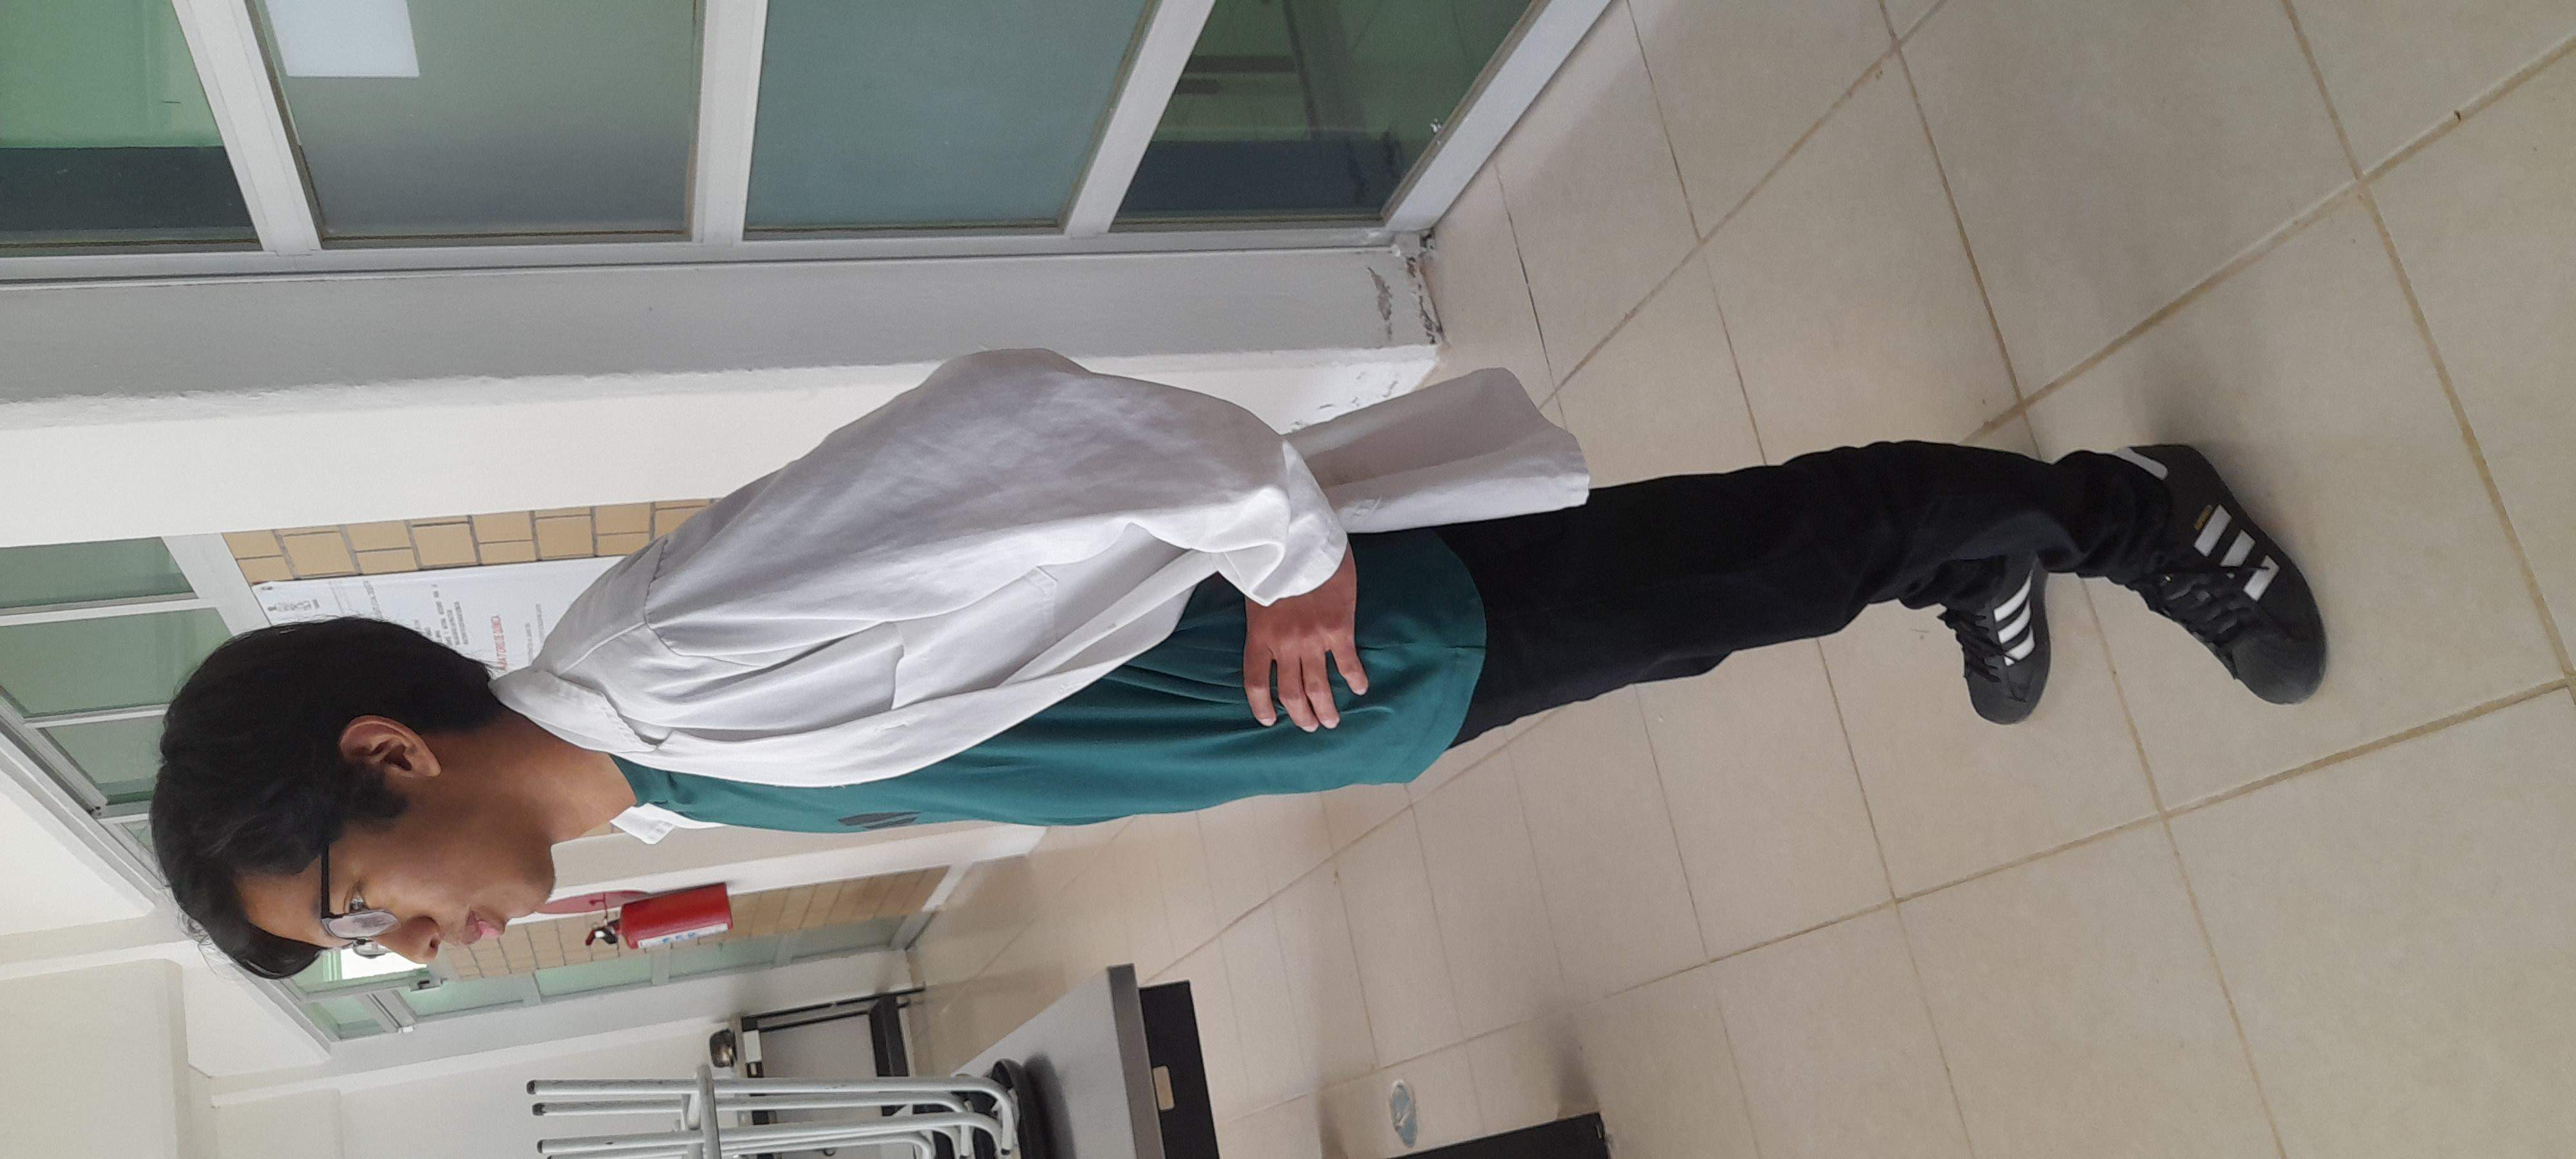Bata-Incorrecta: (343, 57, 1889, 1069)
